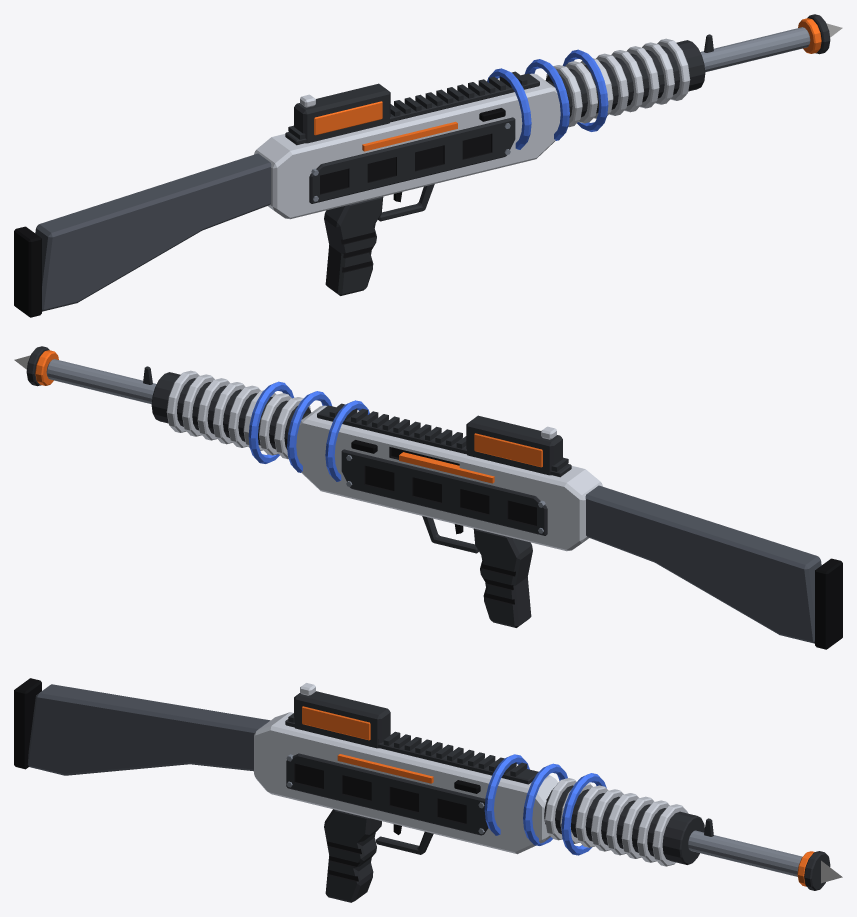
Rendered from splitter_gun42.obj.
3 renders of one model, top to bottom at view 1: azimuth 30°, elevation 25°; view 2: azimuth 150°, elevation 25°; view 3: azimuth 330°, elevation 25°, orthographic.
Visible parts, largest first — view 1: body, barrel, cell; view 2: body, barrel, cell; view 3: body, barrel, cell.
Part boxes in pixels (x1,y1,x2,y2): body: (14, 49, 608, 317); barrel: (545, 14, 830, 127); cell: (294, 83, 390, 143); body: (248, 381, 842, 649); barrel: (26, 346, 311, 459); cell: (466, 415, 562, 475); body: (14, 678, 606, 902); barrel: (544, 778, 830, 890); cell: (294, 683, 390, 748).
Size of the model in its own units: 0.8558 by 0.2 by 0.0764.
